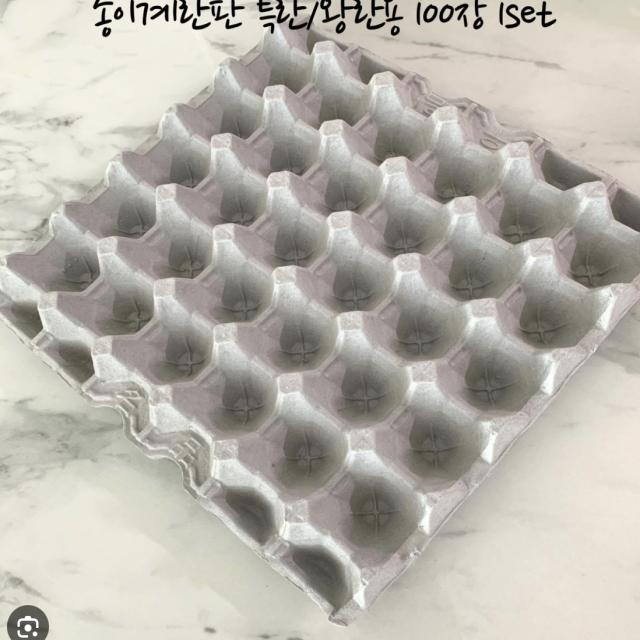biodegradable: (16, 30, 640, 570)
